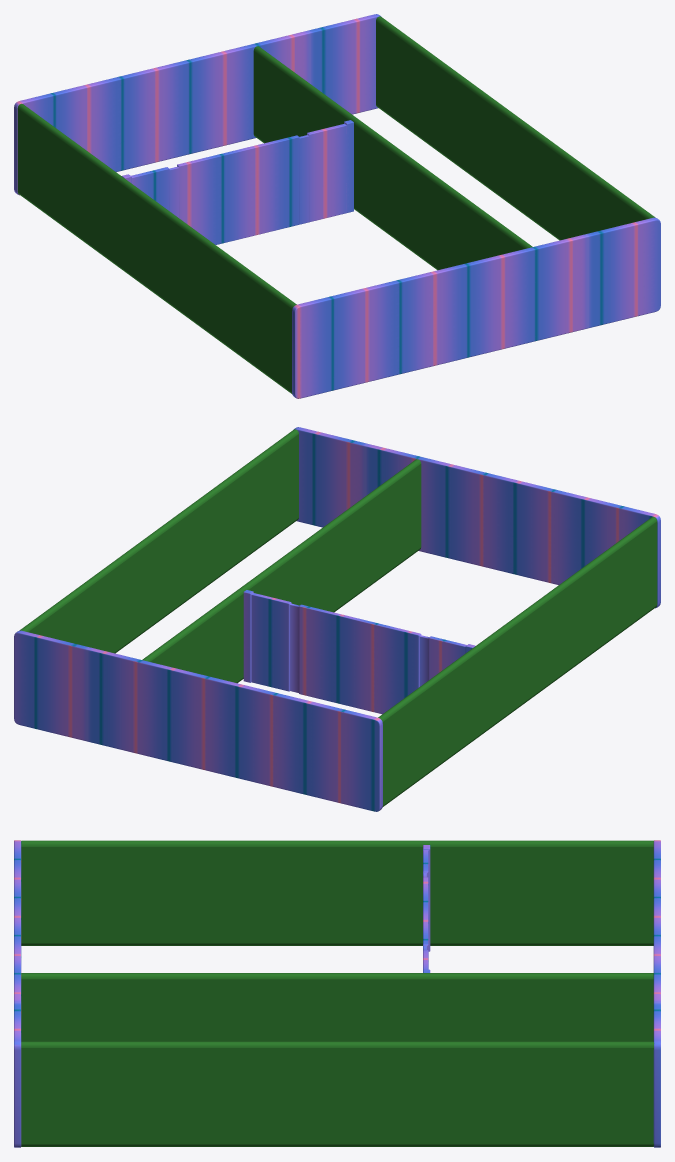
File: SM_Drawer_Divider_07.fbx
3 renders of one model, top to bottom at view 1: azimuth 30°, elevation 25°; view 2: azimuth 150°, elevation 25°; view 3: azimuth 270°, elevation 25°, orthographic. The views are drawn at different scales.
Visible parts, largest first — view 1: SM_Drawer_Divider_07; view 2: SM_Drawer_Divider_07; view 3: SM_Drawer_Divider_07.
Part boxes in pixels (x1,y1,x2,y2): SM_Drawer_Divider_07: [14, 14, 660, 398]; SM_Drawer_Divider_07: [14, 427, 660, 811]; SM_Drawer_Divider_07: [14, 840, 660, 1147].
Bounding box in the file's own units: 27 × 6.5 × 35.9.
Materials: 2 (1 with a texture image).
